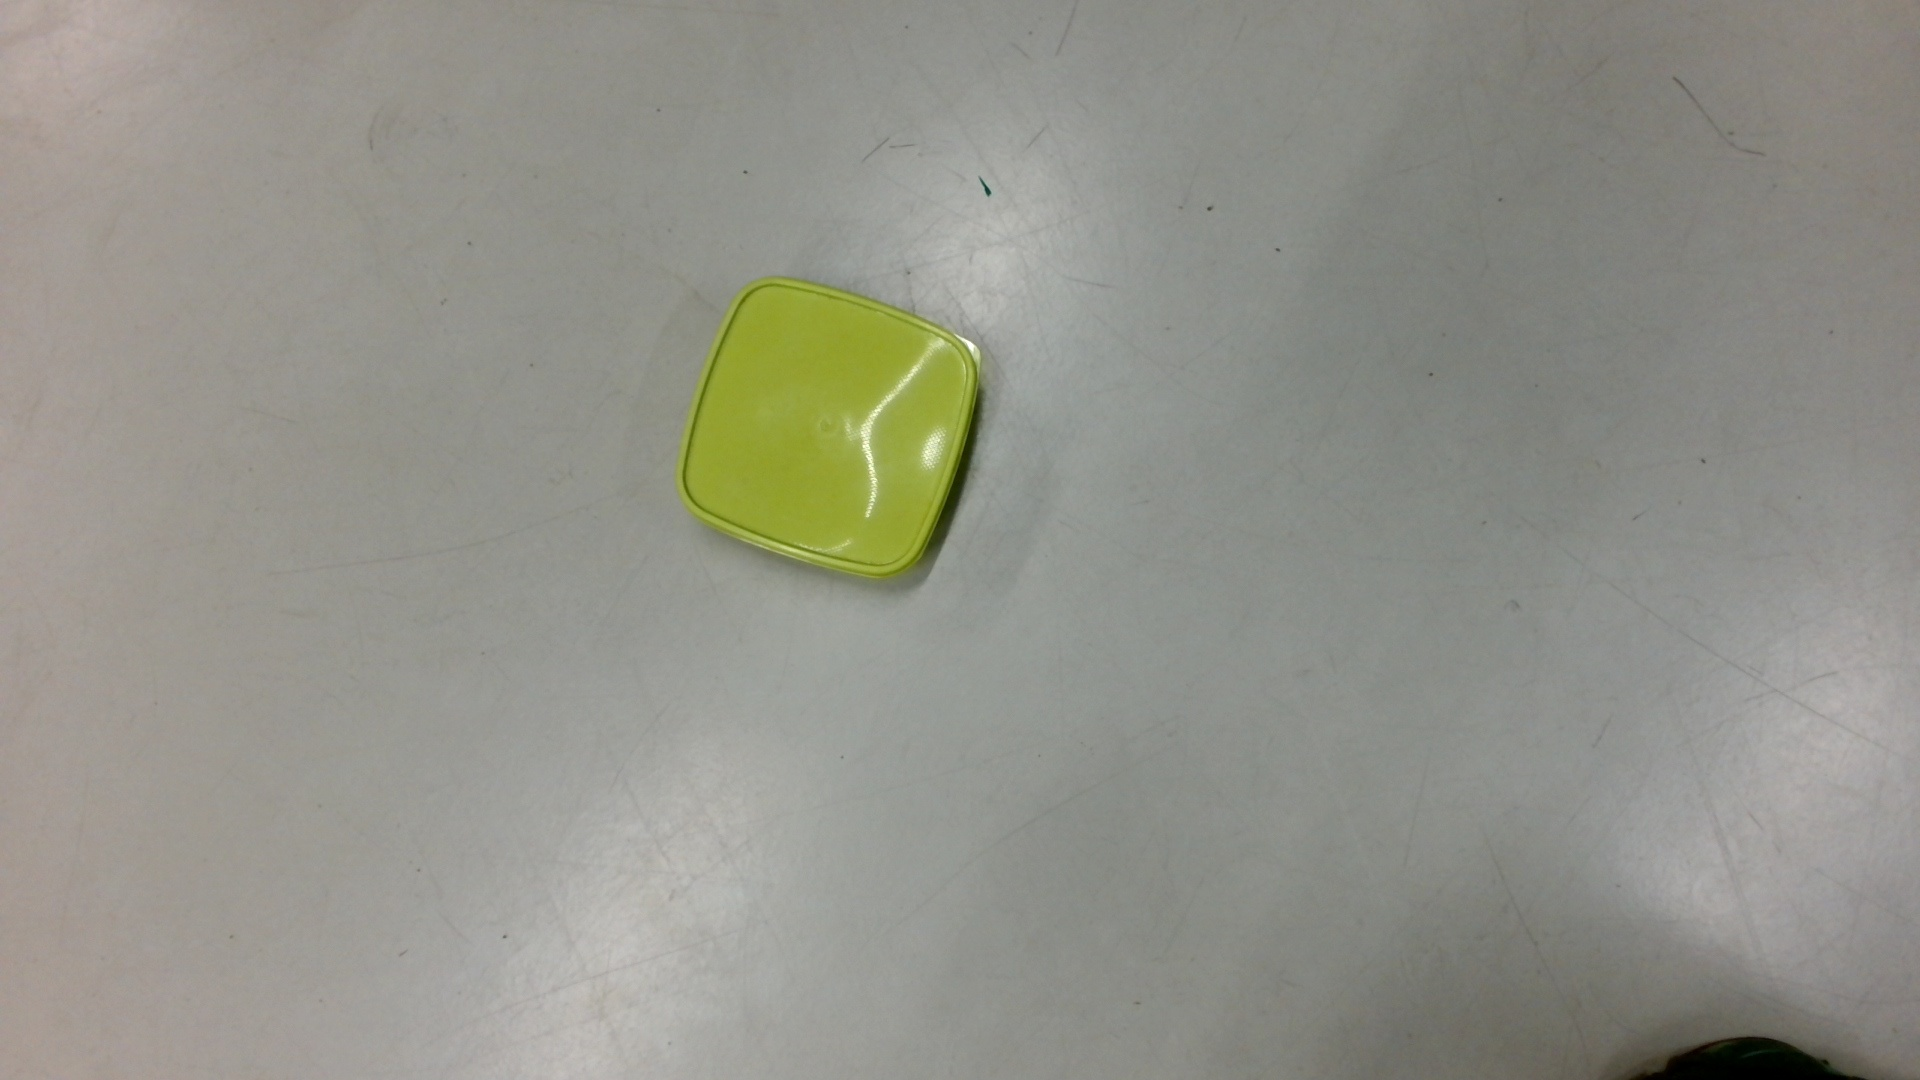Box: (669, 268, 992, 597)
